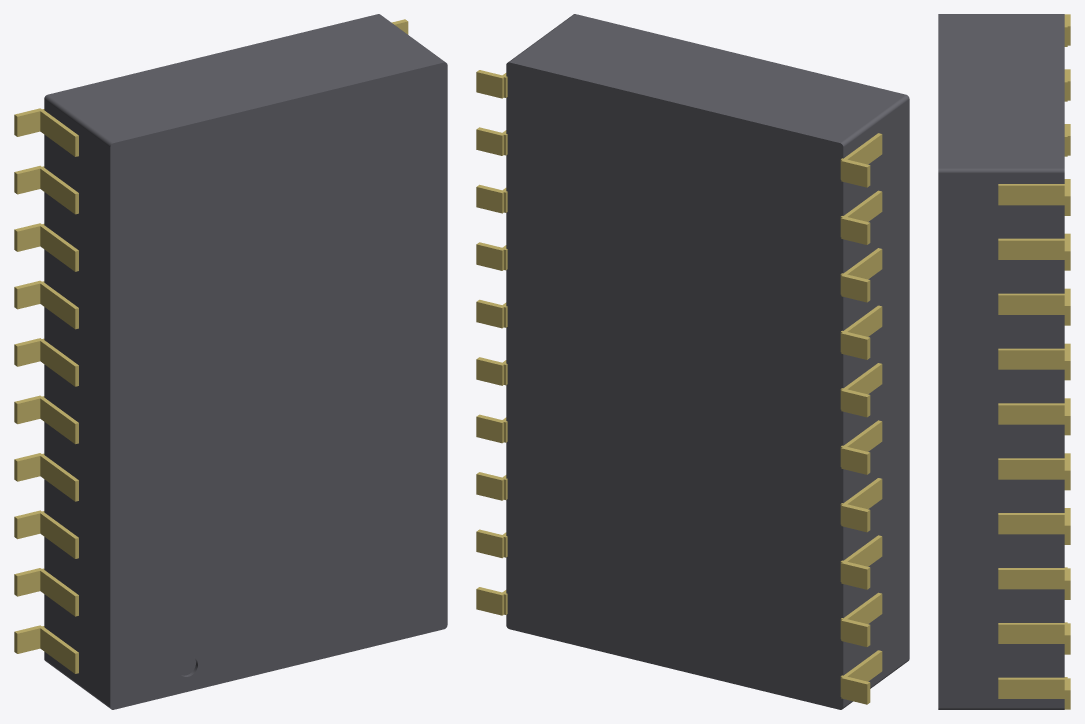
Rendered from cern_drv8803dw.glb.
3 views of the same model, side by side, from view 1: azimuth 30°, elevation 25°; view 2: azimuth 150°, elevation 25°; view 3: azimuth 270°, elevation 25° (orthographic). The views are drawn at different scales.
Visible parts, largest first — view 1: extra, pins; view 2: extra, pins; view 3: extra, pins.
Boxes of the visible parts, x1,y1,x2,y2 form: extra: (44,14,447,709); pins: (14,19,408,673); extra: (506,14,909,709); pins: (476,70,882,704); extra: (938,14,1064,709); pins: (998,14,1070,709).
Size of the model in its own units: 9.04 by 12.53 by 2.77.
